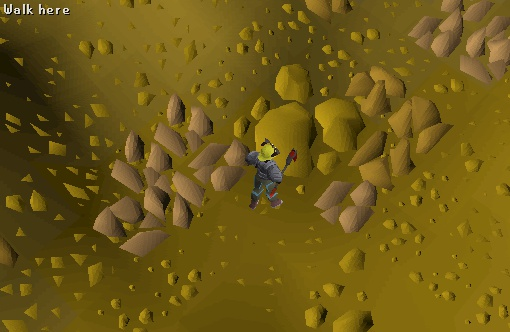granite: (308, 172, 380, 240), (92, 197, 164, 265), (186, 128, 258, 196), (103, 129, 175, 197)
sandstone: (350, 129, 425, 198), (340, 57, 415, 126)
